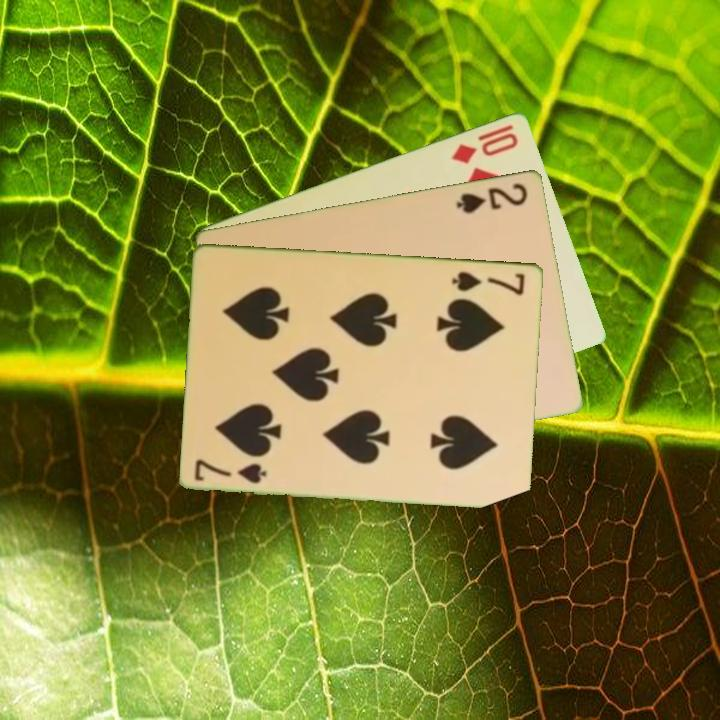10d: (448, 128, 522, 167)
2s: (453, 179, 531, 216)
7s: (449, 267, 528, 298), (191, 455, 270, 486)
